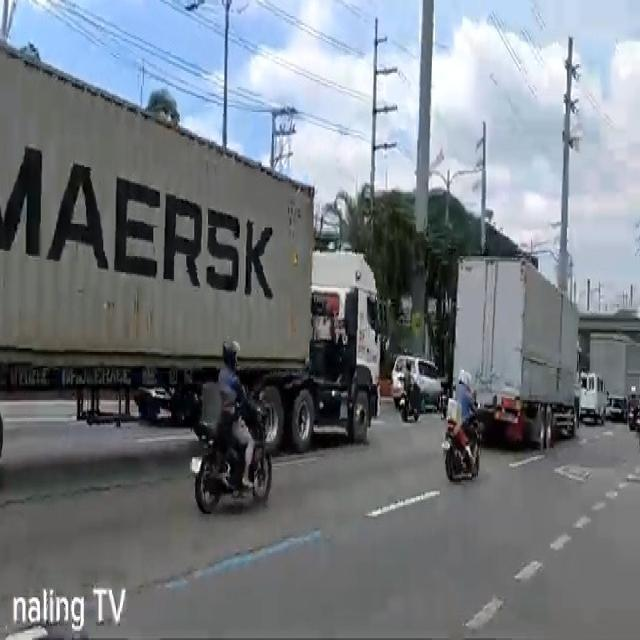car: (392, 350, 440, 410)
motorcycle: (190, 337, 272, 516), (440, 368, 482, 484), (398, 361, 420, 427)
truck: (0, 41, 384, 457), (452, 250, 584, 453), (591, 329, 640, 420)
